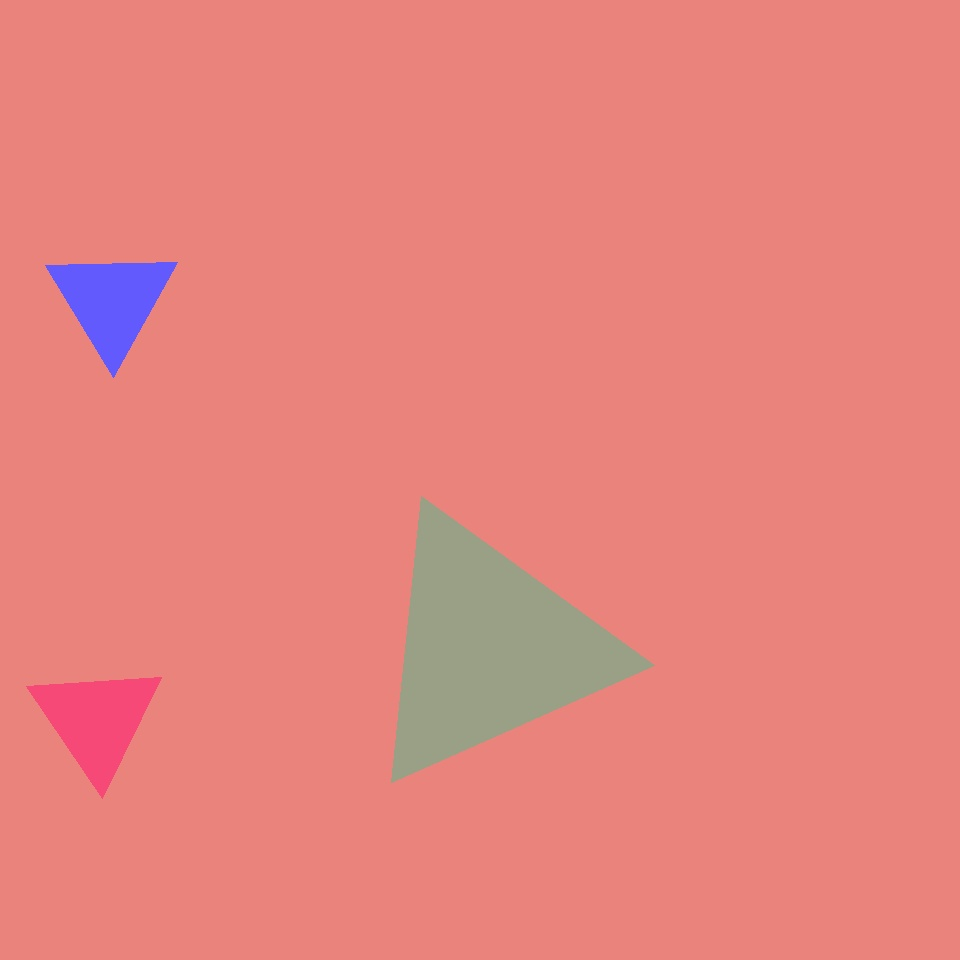circle: (358, 505, 620, 791), (30, 661, 164, 782), (46, 244, 178, 360)
square: (160, 769, 331, 940), (216, 504, 364, 652), (320, 364, 425, 469)
